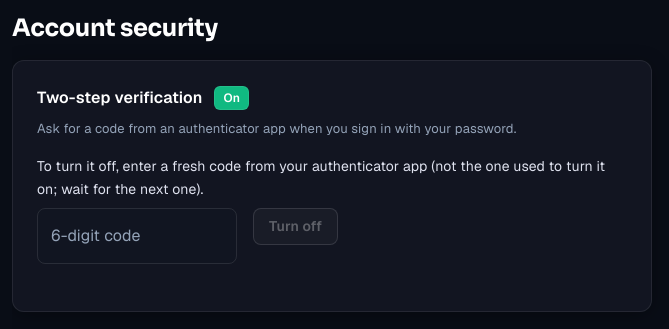
Test: remaining Task 3 screens › shows the field error returned when an authenticator code is rejected
The image size is (669, 329).
Type "123456" into the field labelled "6-digit code" at (137, 236), box [37,208,237,264]
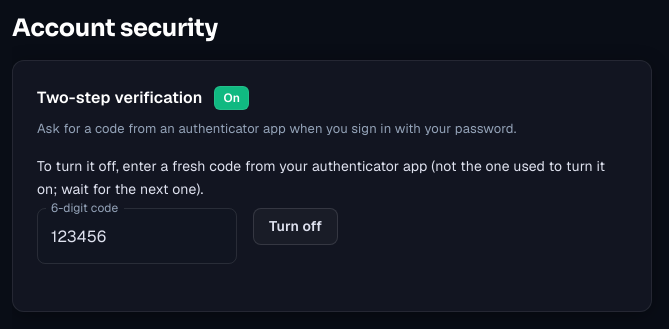
Click the button "Turn off" at (296, 226), box [253,208,338,245]
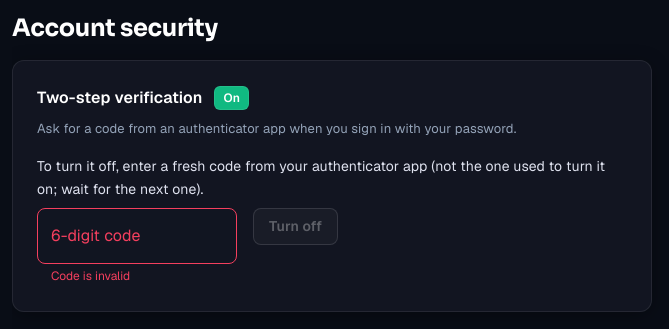
expect the text "Code is invalid" is shown: met, box [51,268,130,284]
